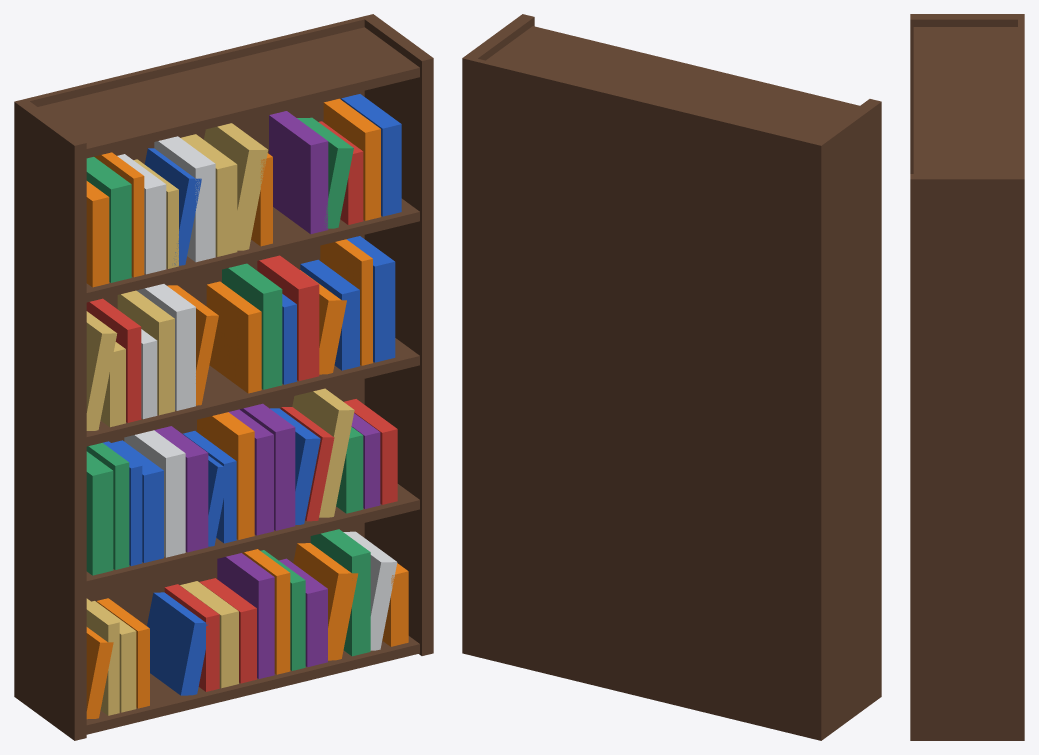
File: Bookshelf.fbx
3 views of the same model, side by side, from view 1: azimuth 30°, elevation 25°; view 2: azimuth 150°, elevation 25°; view 3: azimuth 270°, elevation 25° (orthographic). The views are drawn at different scales.
Parts seen in each view (by area): view 1: Side.002, Side.003, Shelf.004, Back.002, Shelf.002, Book.058, Shelf.003, Shelf, Shelf.001, Book.004, Book.040, Book.056 (+59 smaller); view 2: Back.002, Side.002, Shelf.004, Side.003; view 3: Side.003, Shelf.004, Back.002, Side.002.
Boxes of the visible parts, bbox=[...] form: Side.002: bbox=[14, 99, 86, 740]; Side.003: bbox=[364, 14, 433, 655]; Shelf.004: bbox=[38, 27, 419, 158]; Back.002: bbox=[14, 15, 369, 698]; Shelf.002: bbox=[86, 338, 419, 446]; Book.058: bbox=[269, 111, 328, 234]; Shelf.003: bbox=[86, 198, 419, 302]; Shelf: bbox=[86, 636, 419, 734]; Shelf.001: bbox=[86, 484, 419, 590]; Book.004: bbox=[147, 592, 208, 695]; Book.040: bbox=[206, 281, 261, 393]; Book.056: bbox=[204, 123, 268, 250]; Back.002: bbox=[462, 56, 824, 740]; Side.002: bbox=[809, 99, 881, 740]; Shelf.004: bbox=[486, 26, 859, 140]; Side.003: bbox=[462, 14, 534, 655]; Side.003: bbox=[910, 174, 1023, 740]; Shelf.004: bbox=[913, 27, 1017, 173]; Back.002: bbox=[1018, 14, 1024, 740]; Side.002: bbox=[910, 14, 1022, 173].
Bounding box in the file's own units: 1.2 × 1.9 × 0.35.
